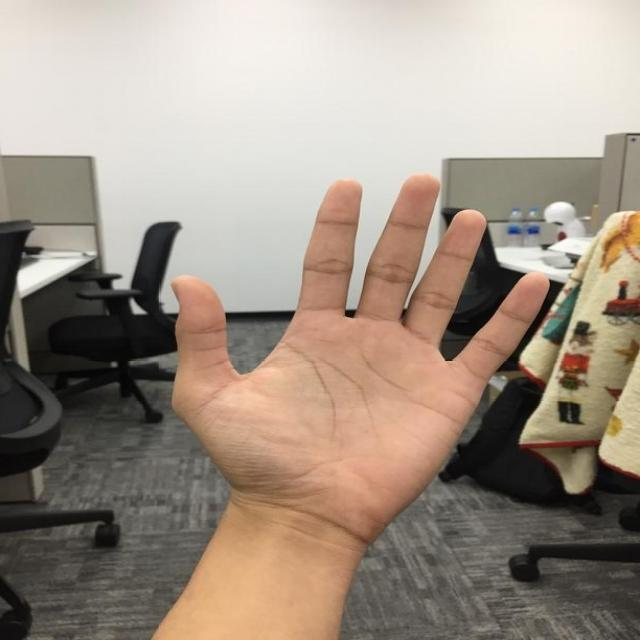hand: (163, 170, 549, 524)
